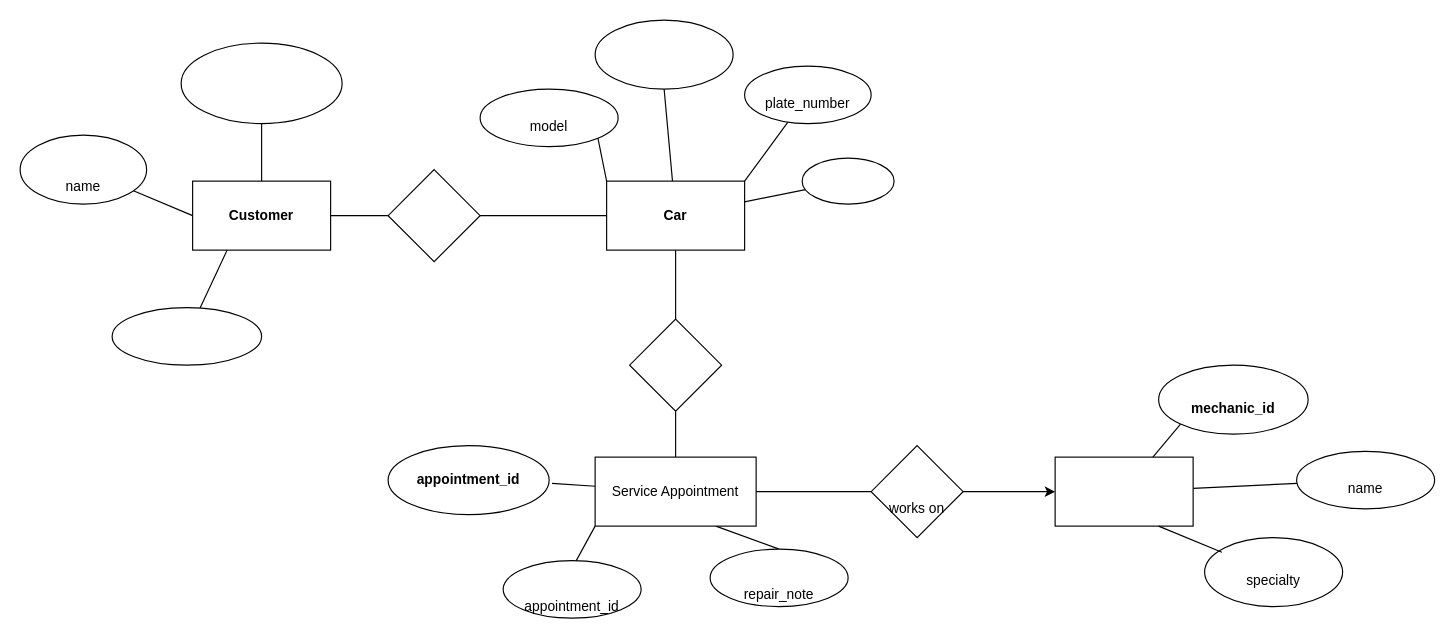
Image size: 1455x638. Some labels were removed from this diagram. Here are the shapes that lost their labels. From the top down, the box of each, then its label:
(594, 19, 733, 89): car_id
(180, 42, 342, 124): customer_id
(801, 157, 894, 204): color
(387, 168, 480, 262): Owns
(111, 306, 262, 365): contact_number
(628, 318, 722, 411): has
(1054, 456, 1193, 526): Mechanic
